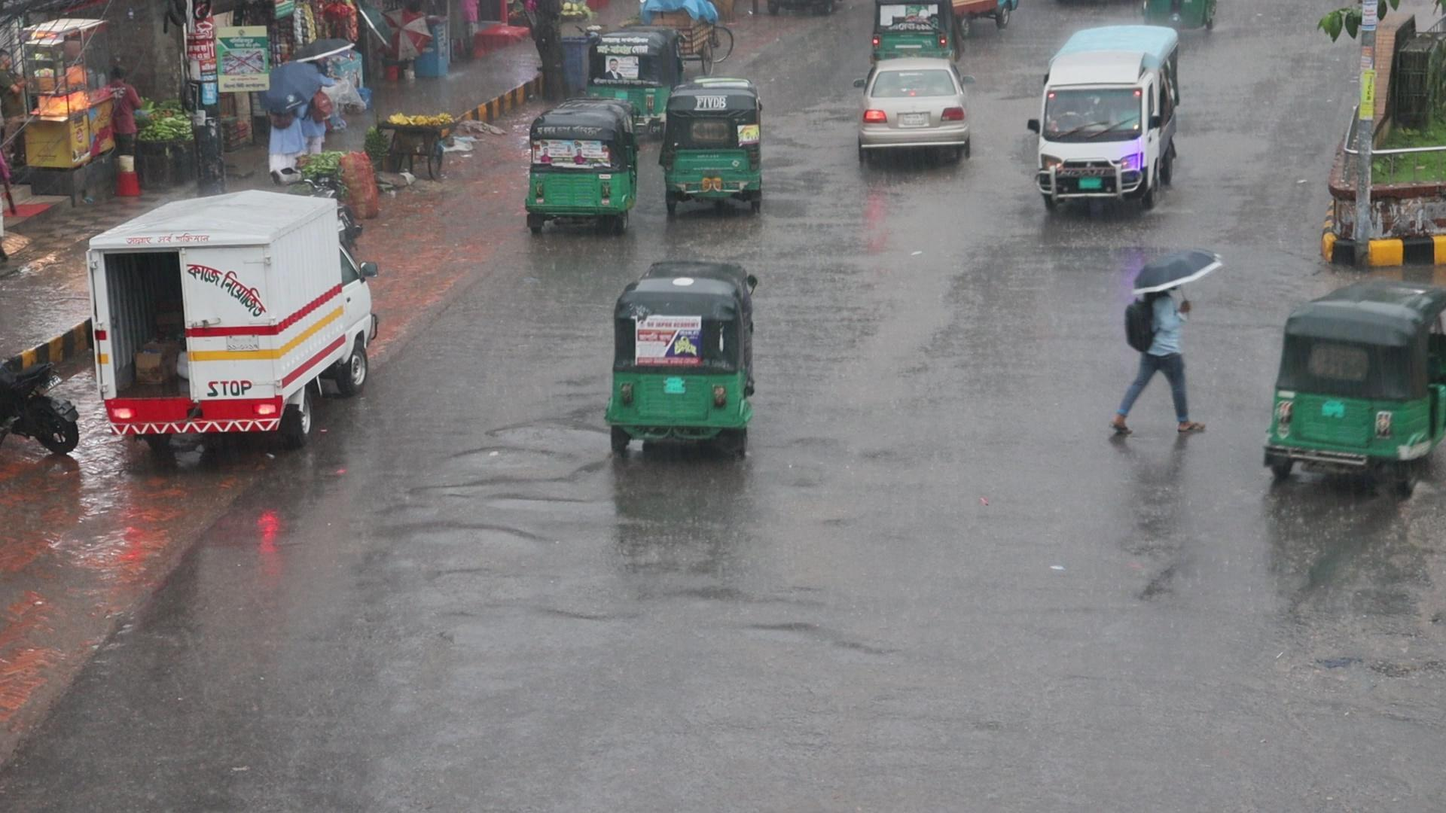Car: (1028, 17, 1188, 216), (847, 57, 975, 174)
